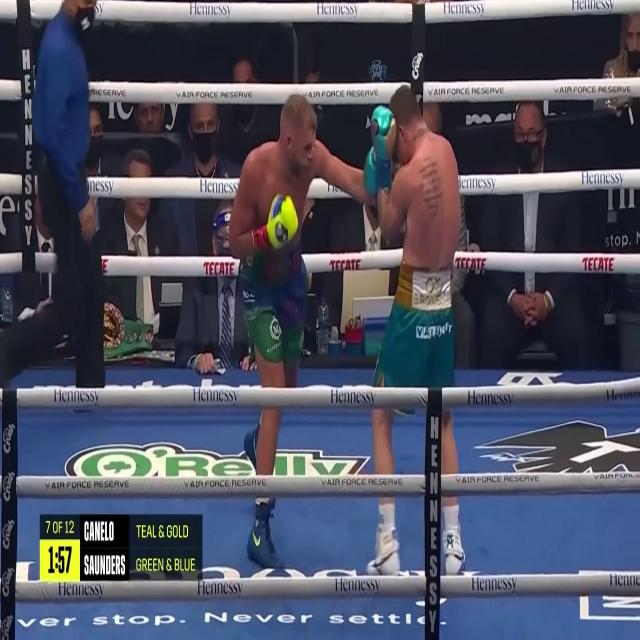boxer_1: (252, 95, 317, 228)
boxer_2: (390, 85, 460, 269)
gloves_1: (252, 195, 299, 251)
gloves_2: (363, 105, 396, 196)
